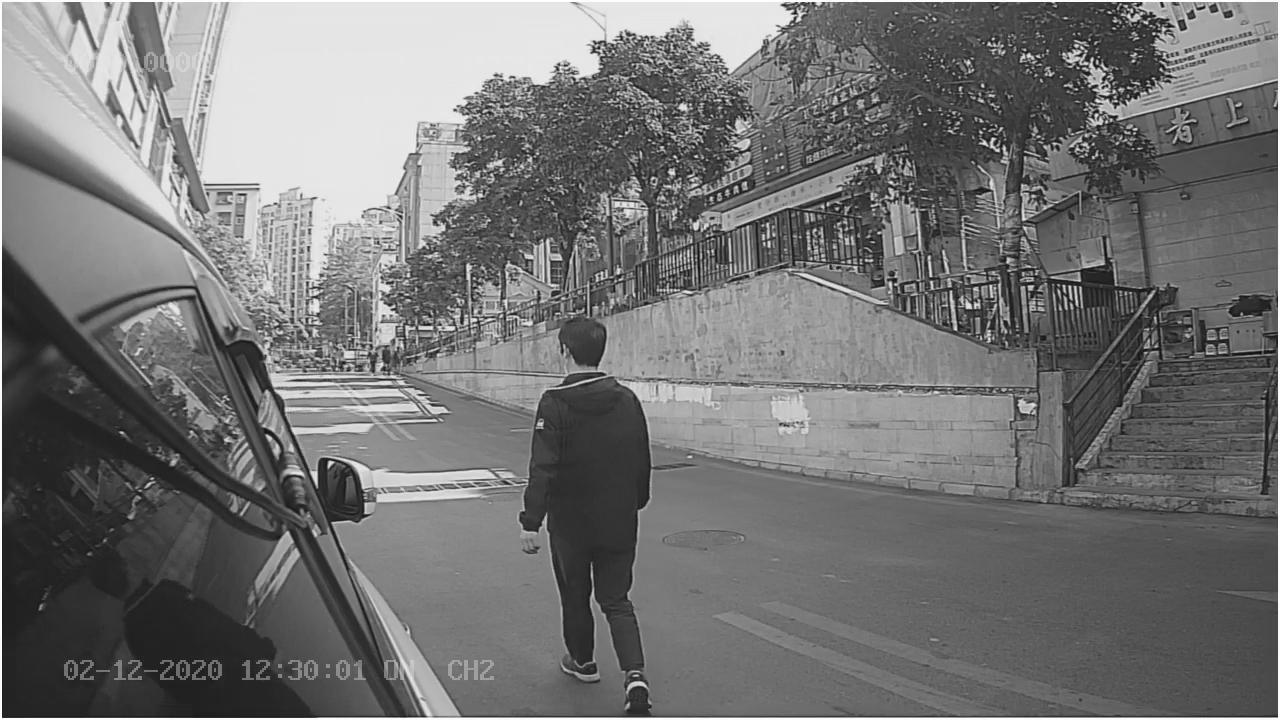person: (517, 316, 682, 716)
